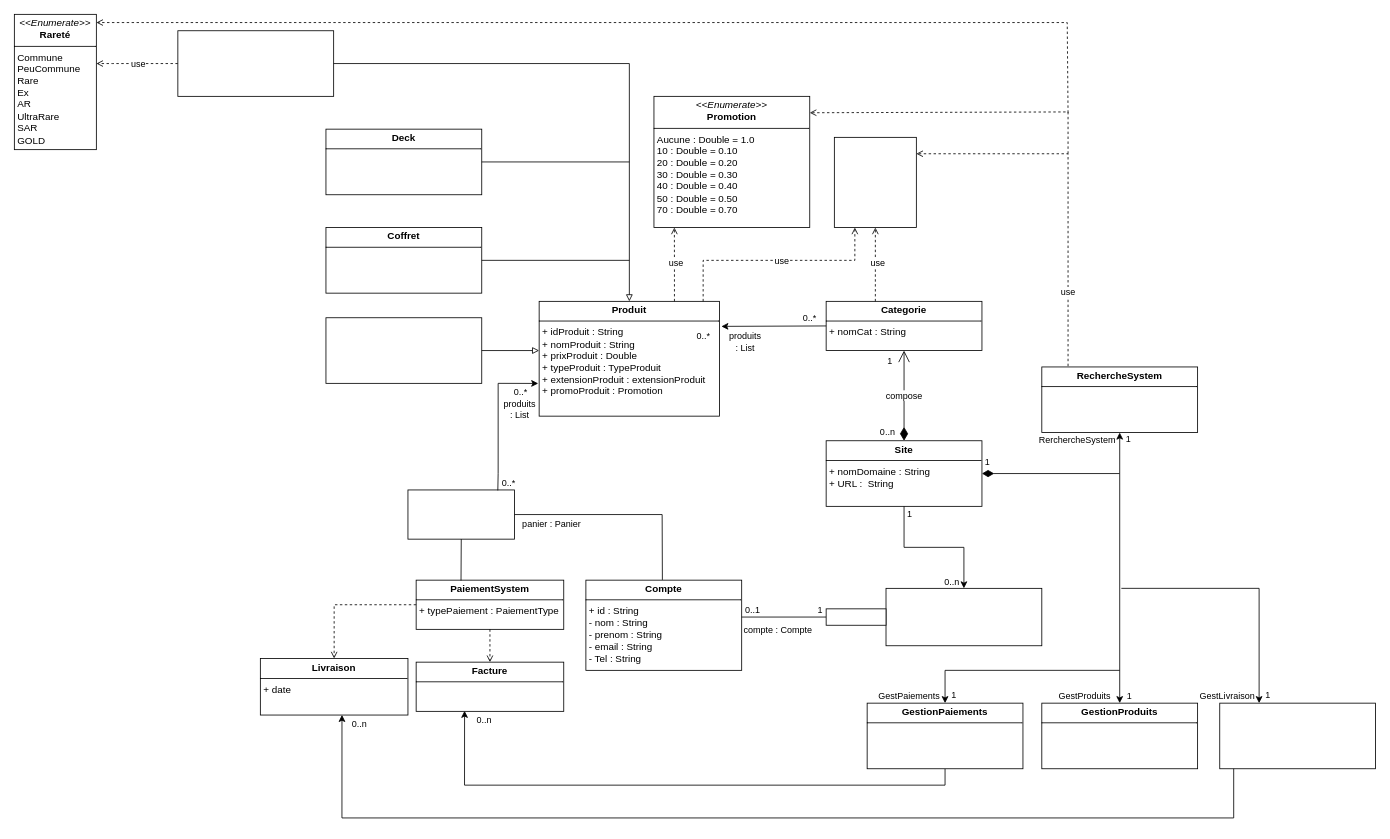
This 1390x839 diagram has some shape labels left out. Here are the shapes that lost their labels. From the top down, the centre of each, then its label:
At (255,63): "Carte + rareté : Rareté".
At (875,182): "<<Enumerate>> TypeProduit Carte Deck Coffret Display".
At (403,350): "Display".
At (461,514): "Panier".
At (855,616): "id : String".
At (963,617): "Visiteur + dateDConnexion : Date".
At (1297,735): "GestionLivraison".
